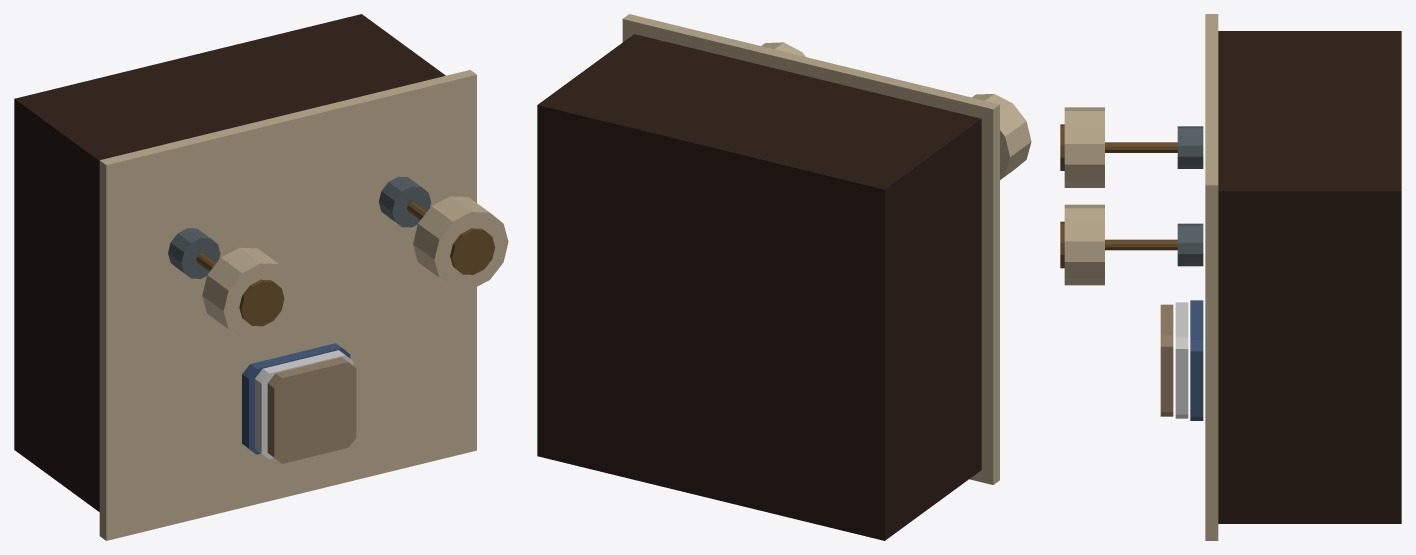
Rendered from SM_BSW_Department_HomeDisplay_B.obj.
3 renders of one model, left to right at view 1: azimuth 30°, elevation 25°; view 2: azimuth 150°, elevation 25°; view 3: azimuth 270°, elevation 25°, orthographic. The views are drawn at different scales.
Visible parts, largest first — view 1: SM_BSW_Department_HomeDisplay_B; view 2: SM_BSW_Department_HomeDisplay_B; view 3: SM_BSW_Department_HomeDisplay_B.
Part boxes in pixels (box(x1,y1,x2,y2)): SM_BSW_Department_HomeDisplay_B: box(14, 14, 508, 540); SM_BSW_Department_HomeDisplay_B: box(537, 14, 1031, 540); SM_BSW_Department_HomeDisplay_B: box(1060, 14, 1401, 540).
Bounding box in the file's own units: 190 × 184 × 160.
